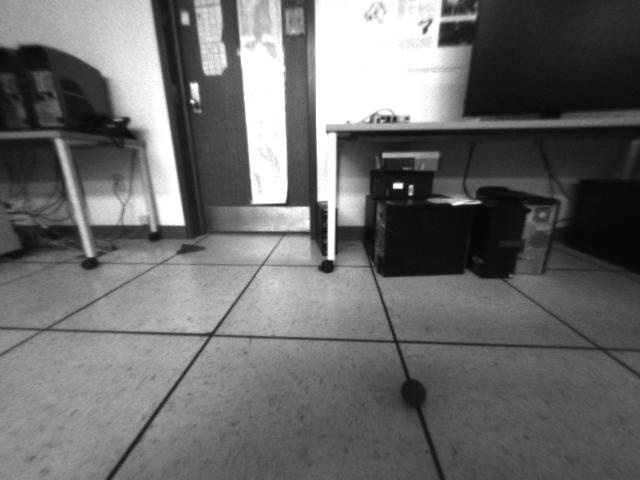dogtoy: (392, 373, 438, 415)
